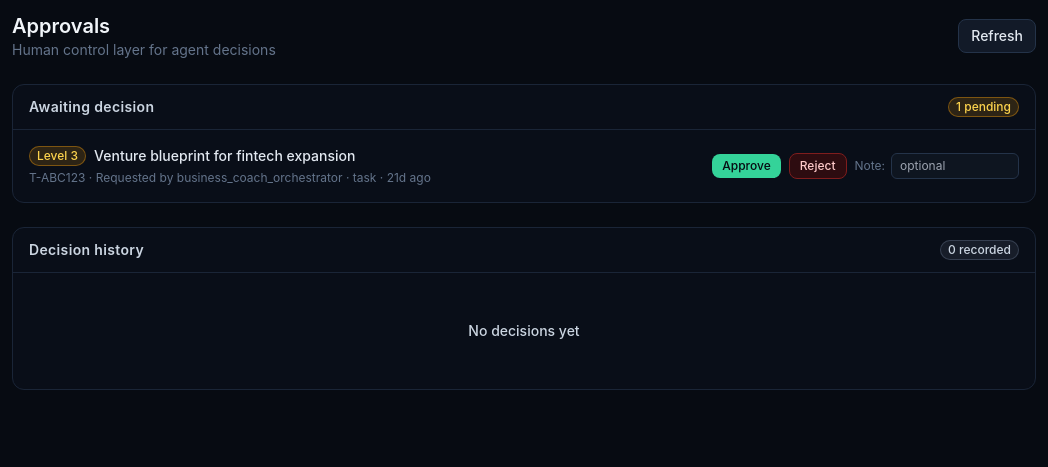
Test: ApprovalsPage › approves an approval via the API and records the outcome
The image size is (1048, 467).
Check: the text "Venture blueprint for fintech expansion" is shown, box top-left (94, 146), bottom-right (355, 166)
Click the button "Approve" at [747, 166], box top-left (712, 154), bottom-right (781, 178)
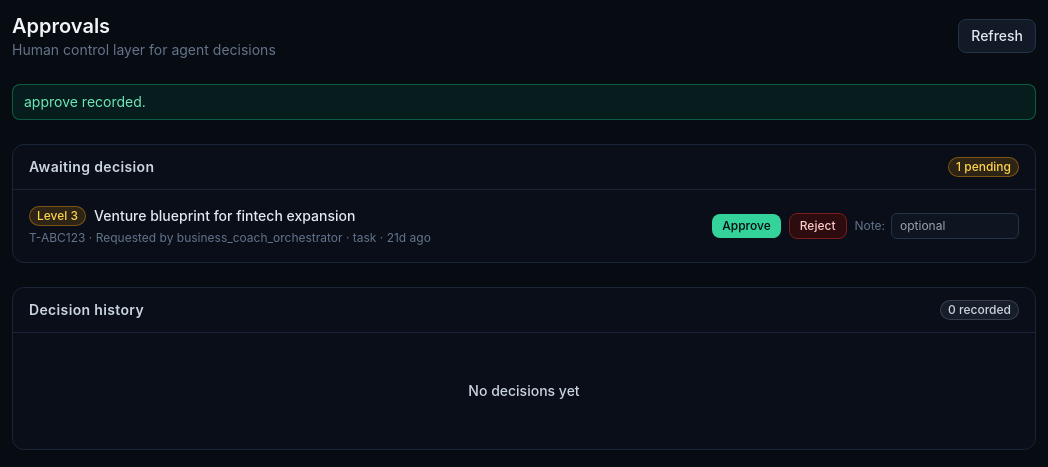
Check: the text "approve recorded." is shown, box top-left (12, 84), bottom-right (1036, 120)
